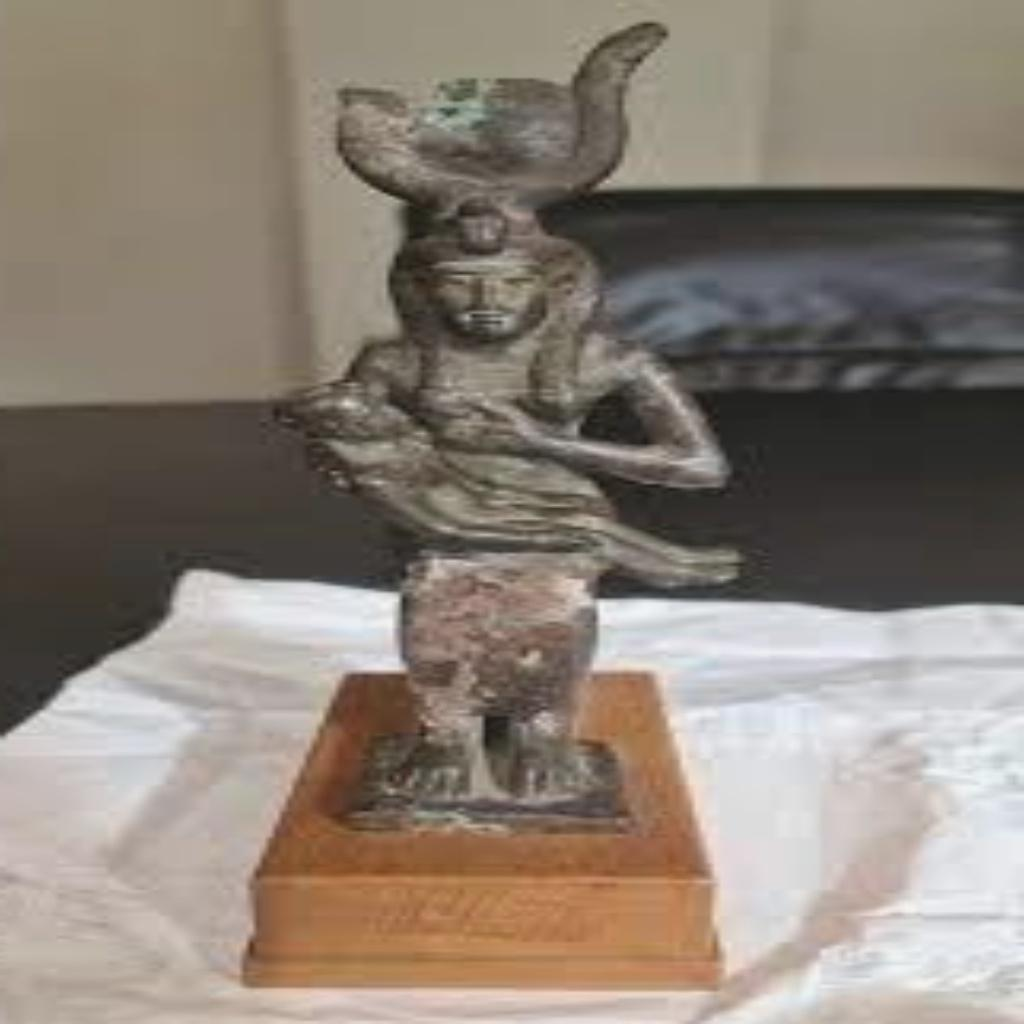Isis with her child: (261, 16, 757, 828)
